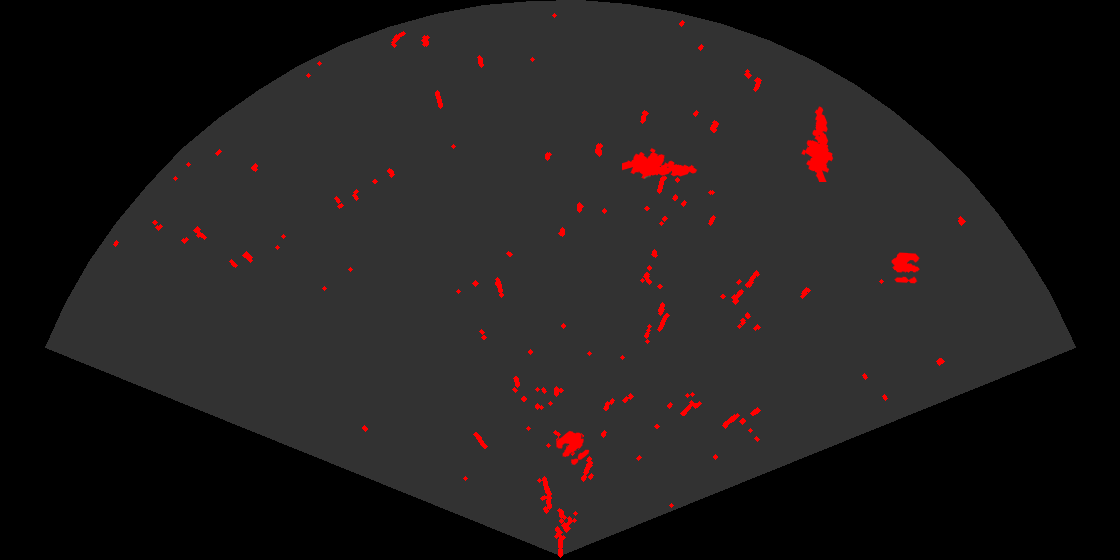ball: (555, 429, 591, 467), (890, 251, 921, 285)
frogman: (800, 105, 835, 182), (622, 147, 699, 181)
